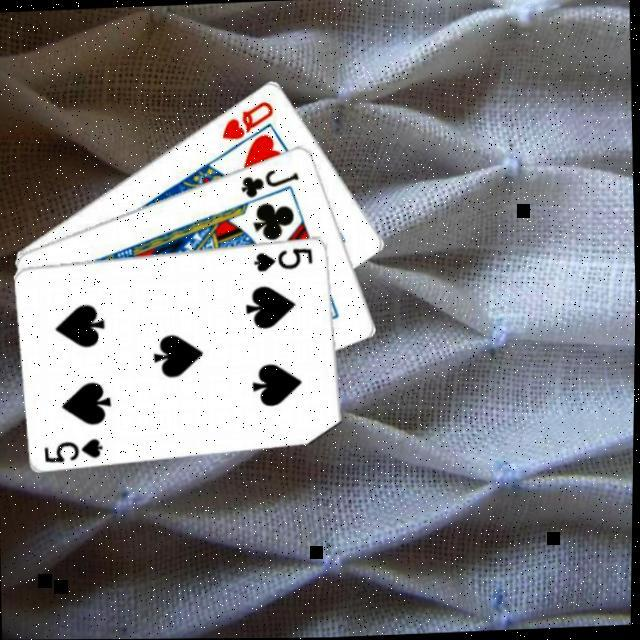5S: (44, 433, 110, 463), (253, 242, 318, 272)
JC: (240, 162, 304, 198)
QH: (218, 94, 280, 140)
